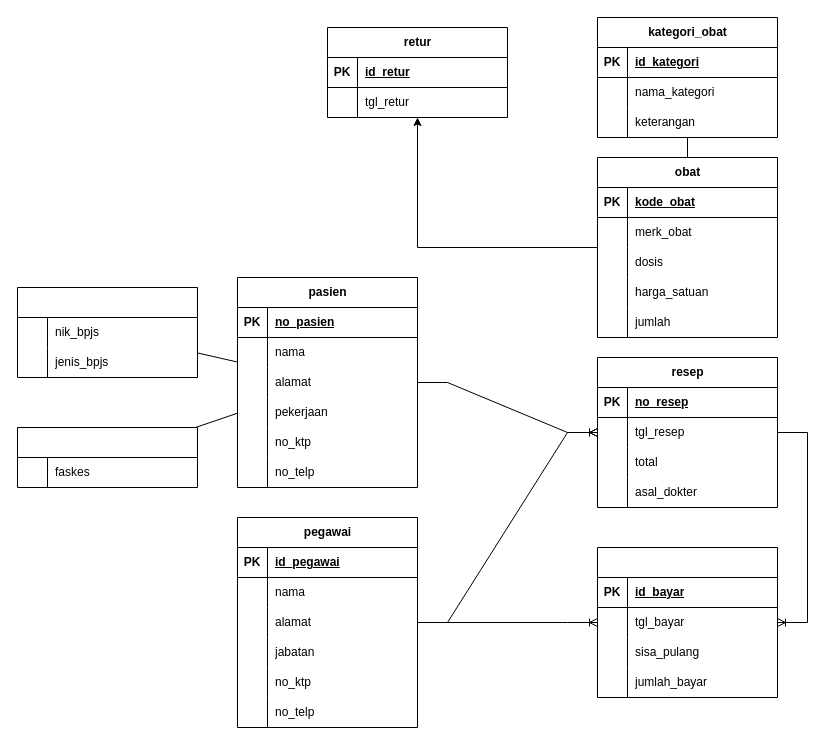
This 833x745 diagram has some shape labels left out. Each missing label, with the box of its shape:
non_bpjs: (16, 426, 198, 488)
pasien_bpjs: (16, 286, 198, 378)
pembayaran: (596, 546, 778, 698)
